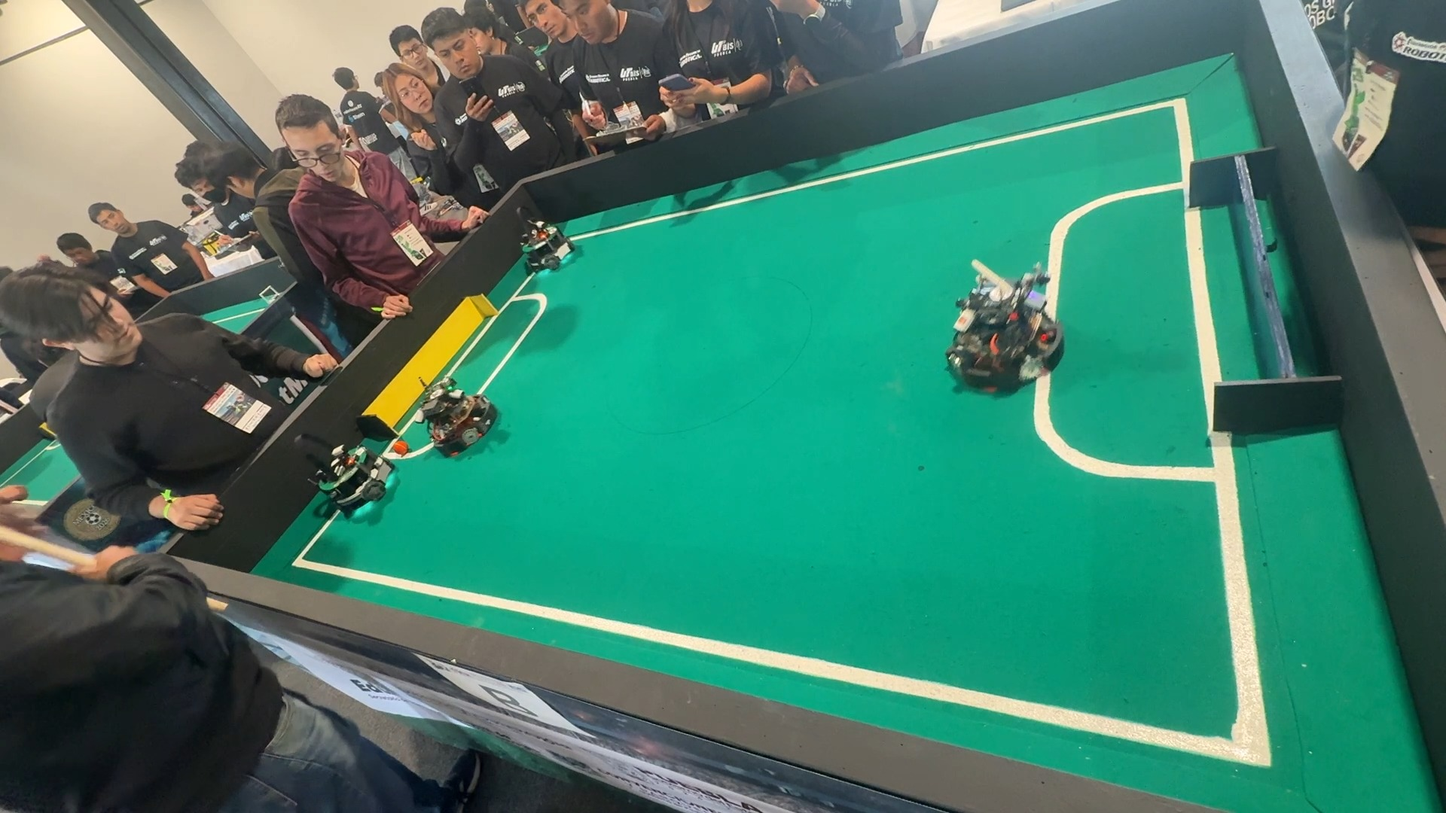Robot: (936, 248, 1086, 414), (316, 399, 407, 544), (406, 366, 516, 468), (515, 209, 595, 285)
